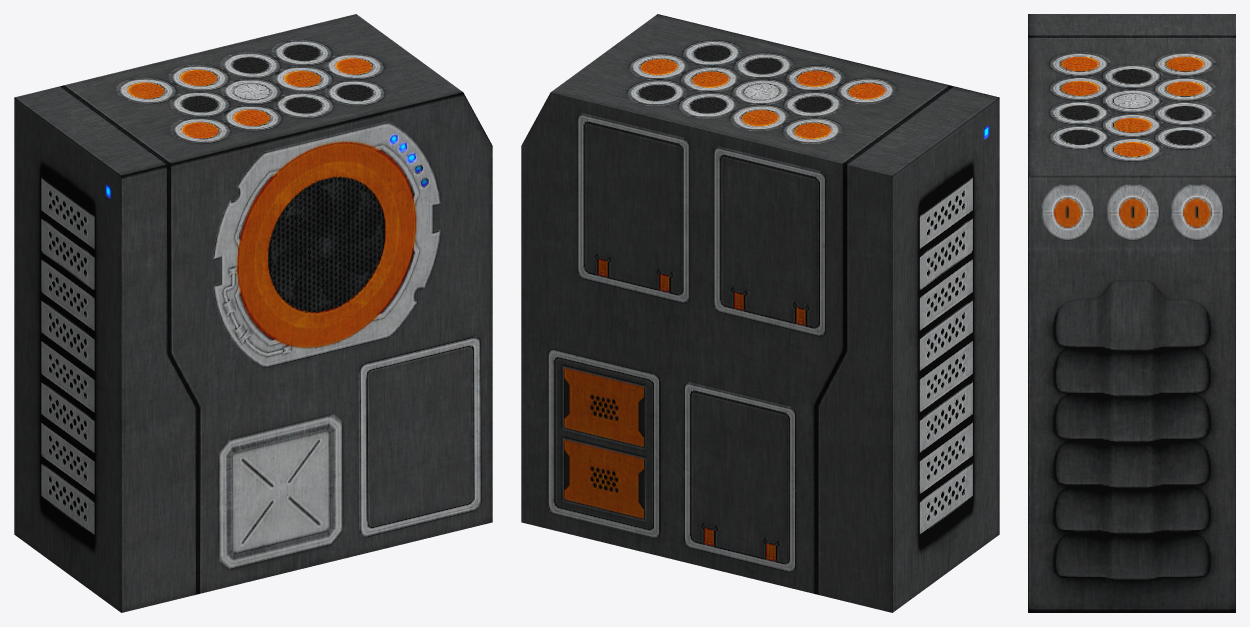
The model's file is Server.gltf.
3 views of the same model, side by side, from view 1: azimuth 30°, elevation 25°; view 2: azimuth 150°, elevation 25°; view 3: azimuth 270°, elevation 25° (orthographic). The views are drawn at different scales.
Parts seen in each view (by area): view 1: HT-SF_low; view 2: HT-SF_low; view 3: HT-SF_low.
Part boxes in pixels (x1,y1,x2,y2): HT-SF_low: [14, 14, 492, 612]; HT-SF_low: [521, 14, 999, 612]; HT-SF_low: [1028, 14, 1235, 612].
Size of the model in its own units: 0.64 by 0.72 by 0.32.
1 material, 1 textured.
